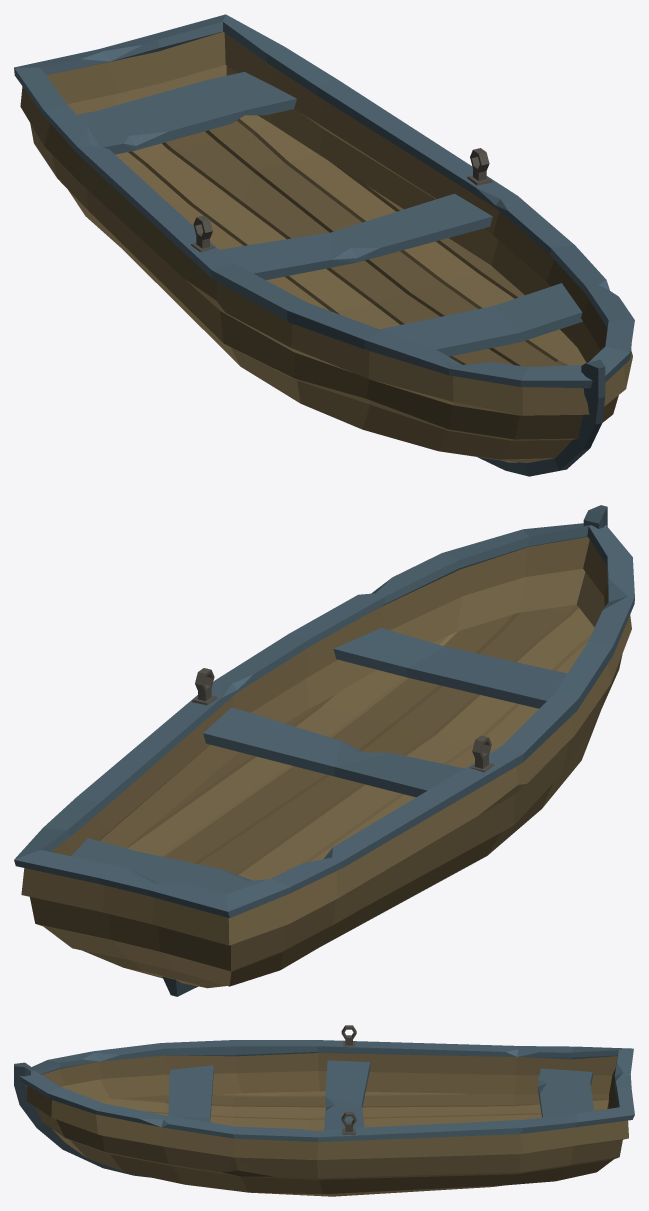
Rendered from BoatSmall_3.fbx.
The picture shows the model from 3 angles, top to bottom: view 1: azimuth 30°, elevation 25°; view 2: azimuth 150°, elevation 25°; view 3: azimuth 270°, elevation 25°; orthographic projection. The views are drawn at different scales.
Visible parts, largest first — view 1: BoatSmall_3; view 2: BoatSmall_3; view 3: BoatSmall_3.
Part boxes in pixels (box(x1,y1,x2,y2)): BoatSmall_3: box(14, 14, 634, 476); BoatSmall_3: box(14, 505, 634, 996); BoatSmall_3: box(14, 1025, 634, 1196).
Size of the model in its own units: 148 by 89.99 by 402.
